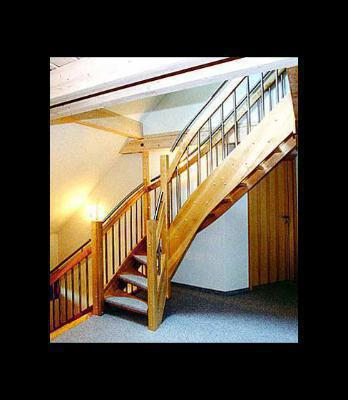Escaleras: (95, 85, 286, 317)
